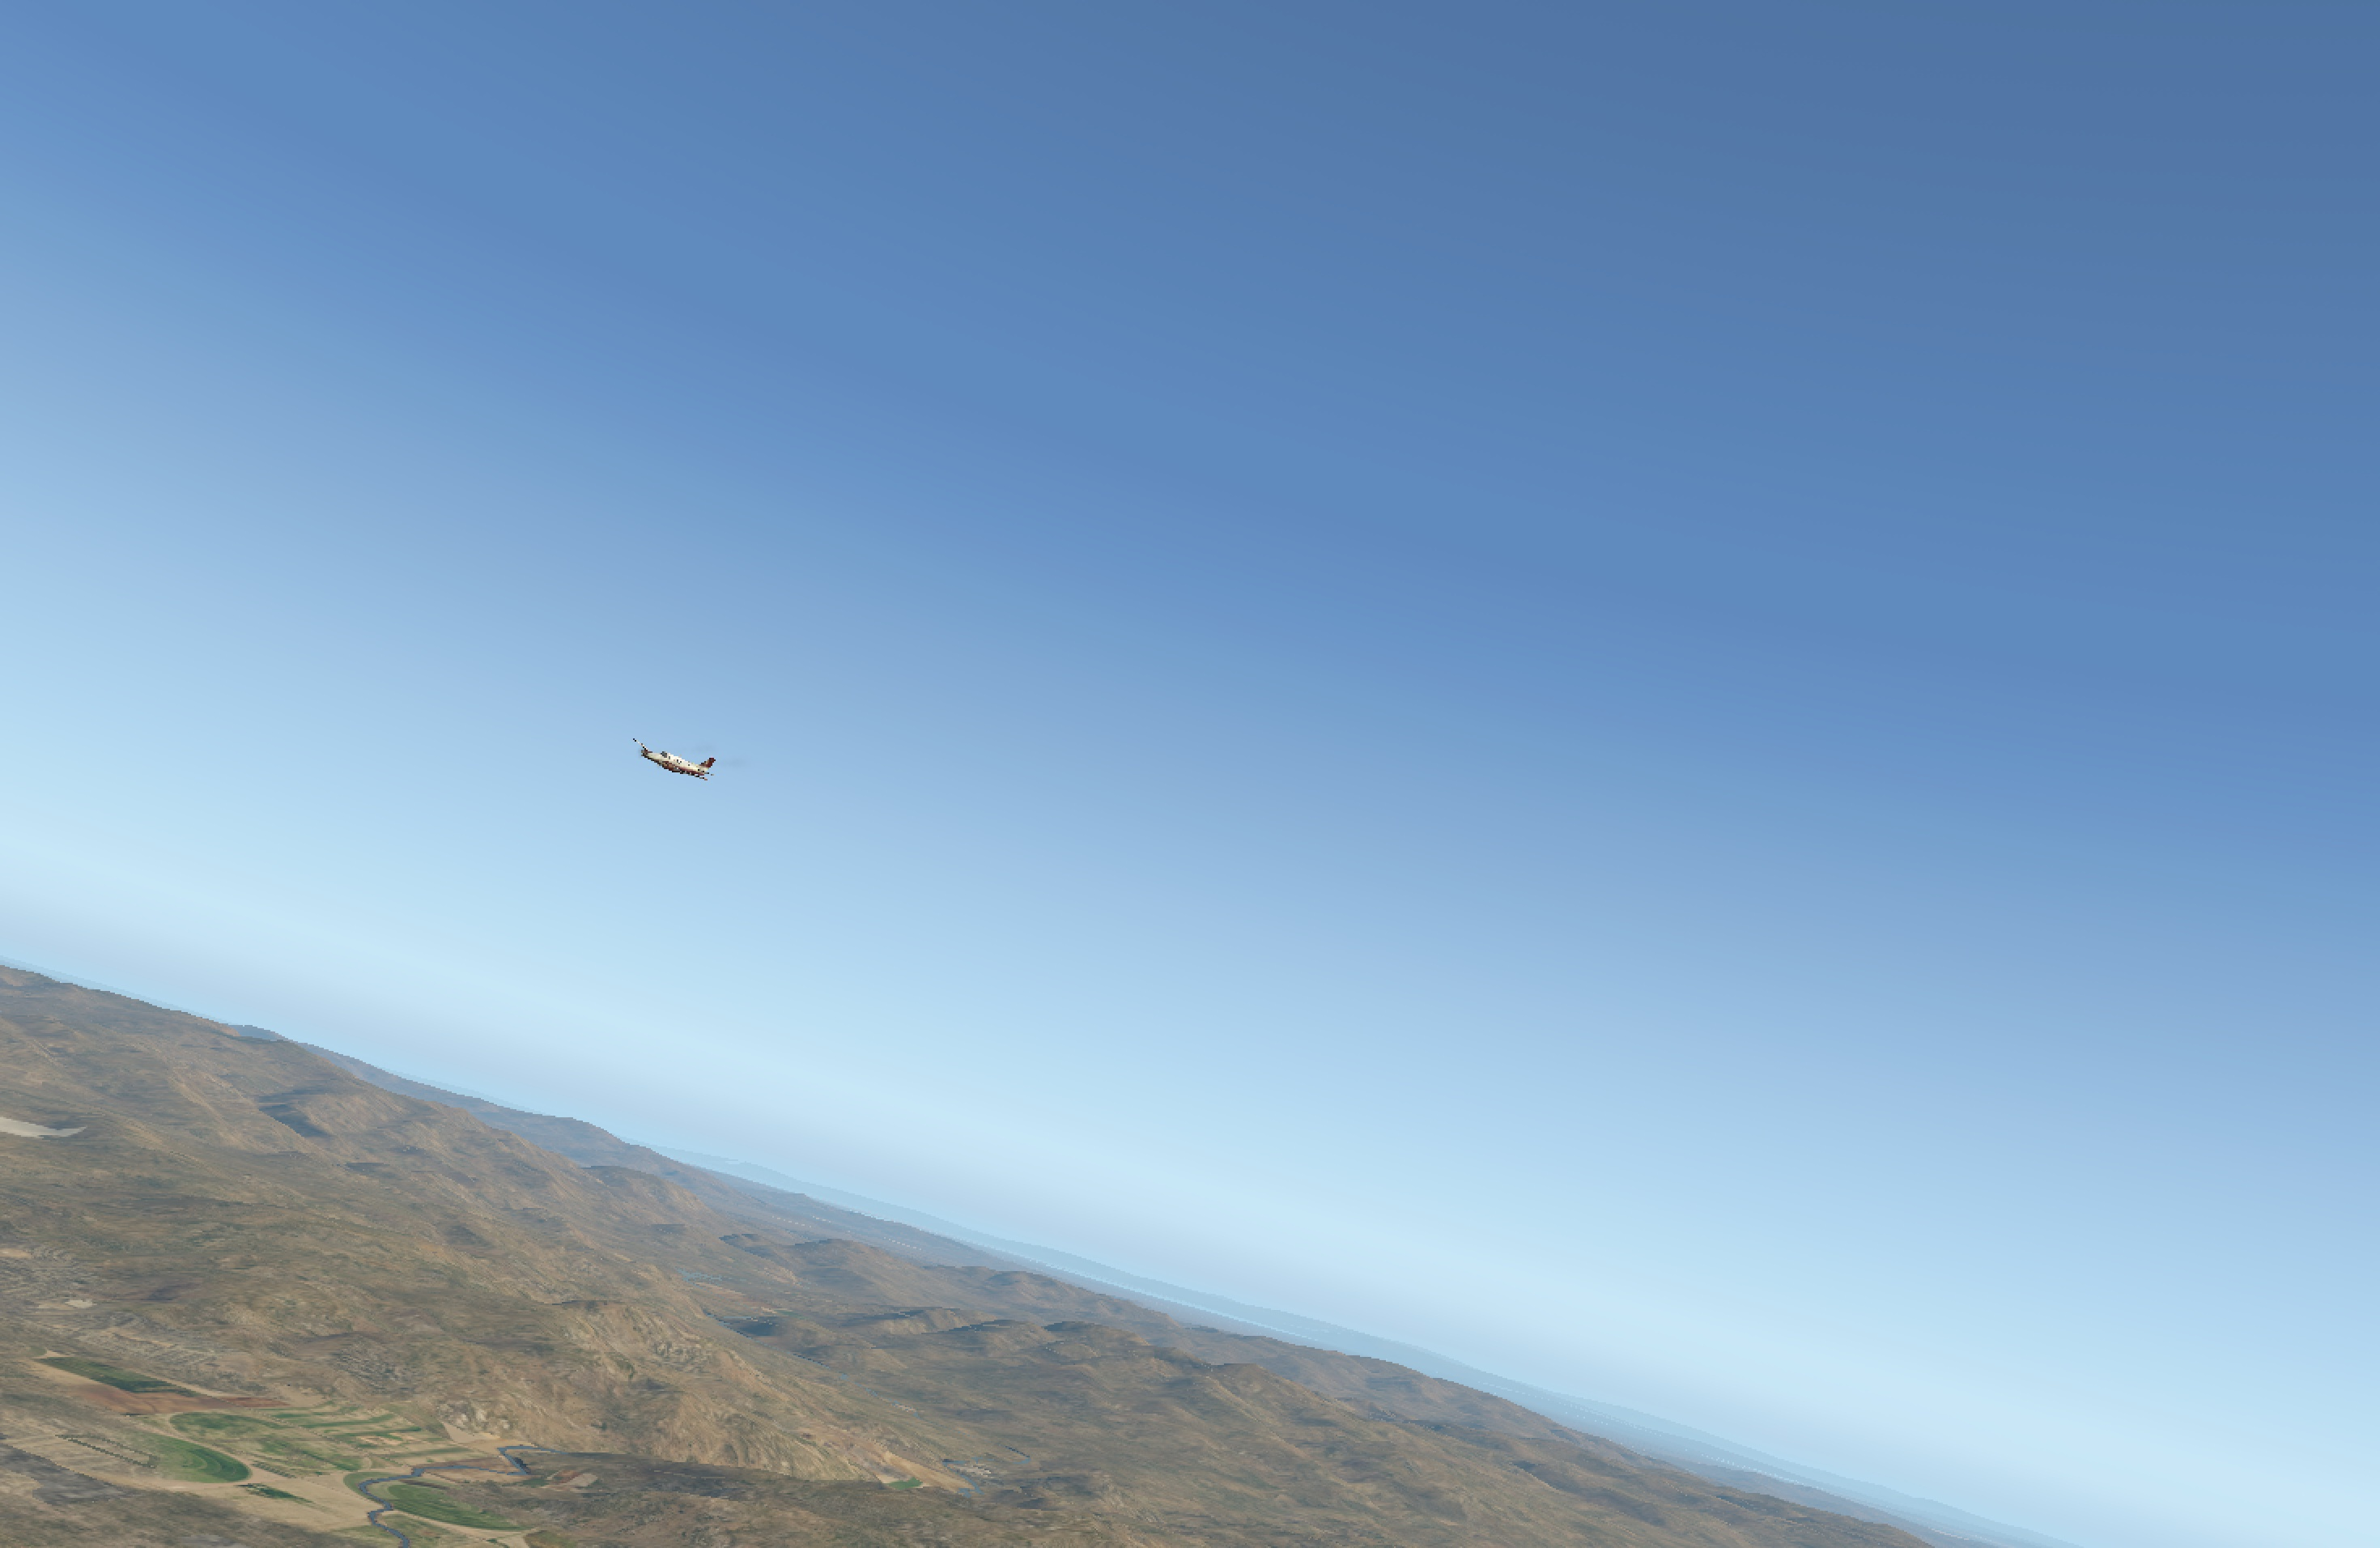aircraft: (605, 743, 725, 788)
